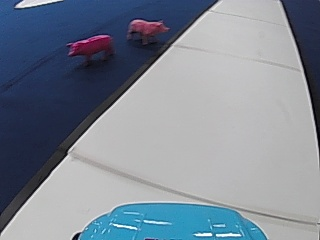pig: (65, 30, 113, 68), (124, 14, 170, 47)
